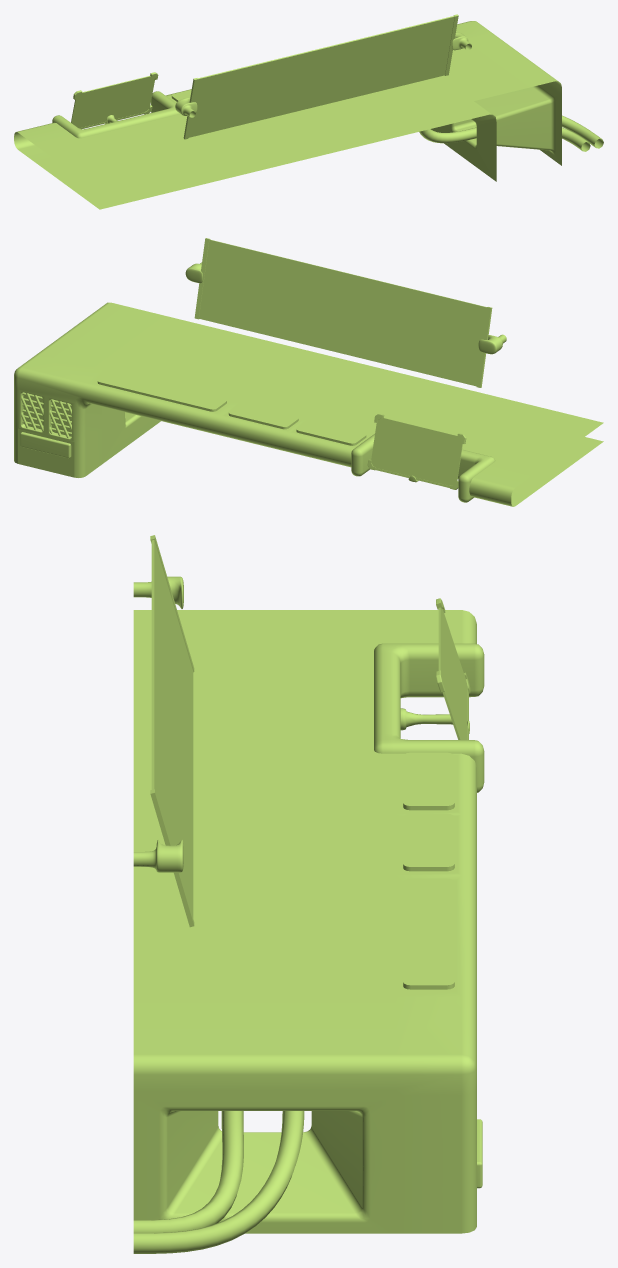
Rendered from schreibtisch.fbx.
3 views of the same model, one above another, from view 1: azimuth 30°, elevation 25°; view 2: azimuth 150°, elevation 25°; view 3: azimuth 270°, elevation 25° (orthographic). The views are drawn at different scales.
Visible parts, largest first — view 1: schreibtisch; view 2: schreibtisch; view 3: schreibtisch.
Part boxes in pixels (x1,y1,x2,y2): schreibtisch: [14, 14, 603, 209]; schreibtisch: [14, 238, 603, 506]; schreibtisch: [133, 535, 484, 1253].
Bounding box in the file's own units: 7.64 × 2.49 × 2.3.
